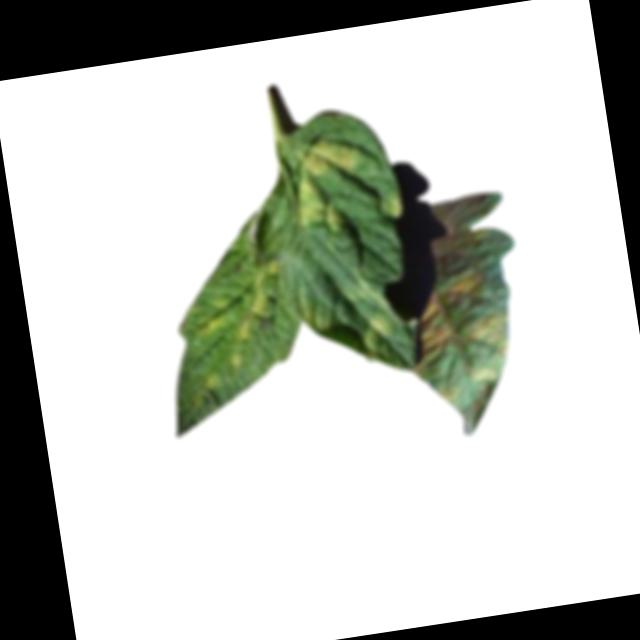Leaf_Mold: (398, 266, 523, 408), (189, 259, 295, 372), (287, 132, 366, 241), (359, 313, 404, 357), (381, 190, 407, 218)
